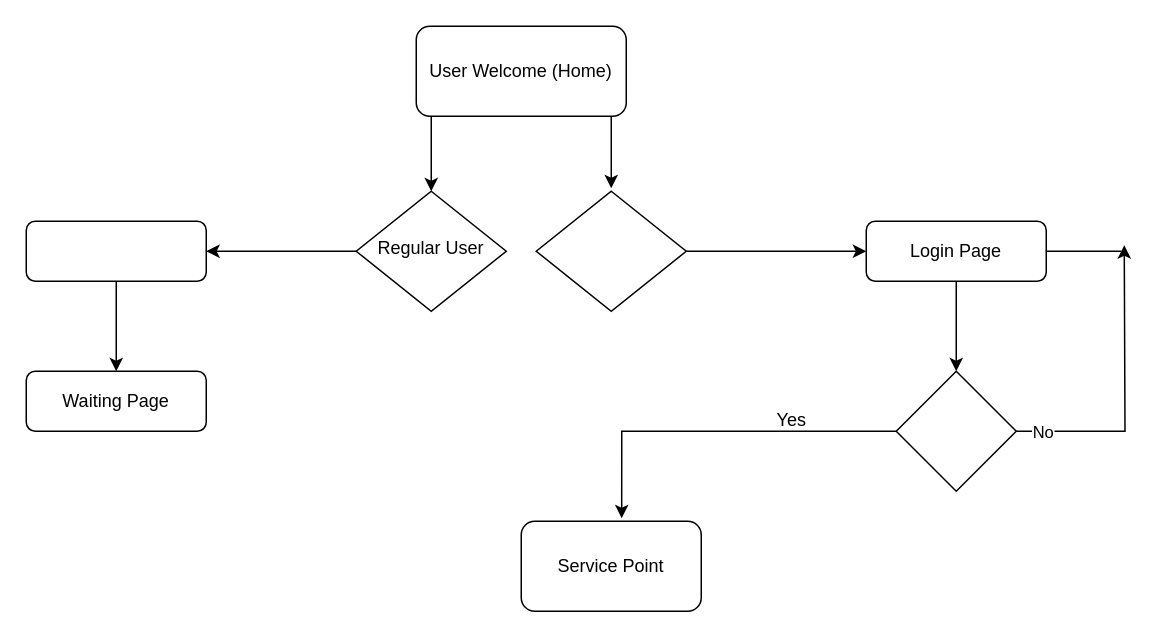
Image size: 1164x638. Some labels were removed from this diagram. The shapes that lost their labels are listed below. From the top down, each one's box as (x1, y1, x2, y2) in pixels, then its label:
(25, 220, 206, 281): CheckInPage
(535, 190, 686, 311): Service Provider
(895, 370, 1016, 491): Auth
